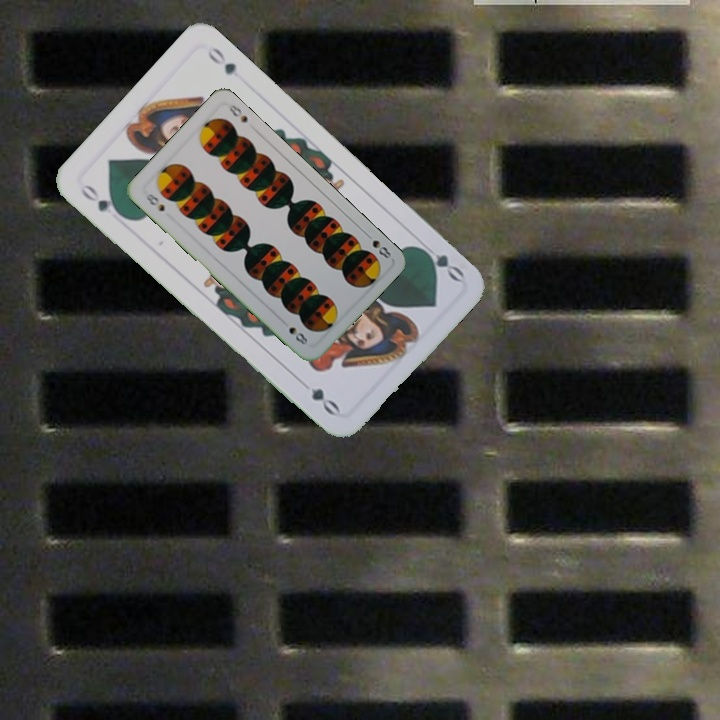GO: (414, 238, 467, 285), (76, 180, 127, 221)
S8: (361, 228, 394, 261), (140, 189, 167, 214)
